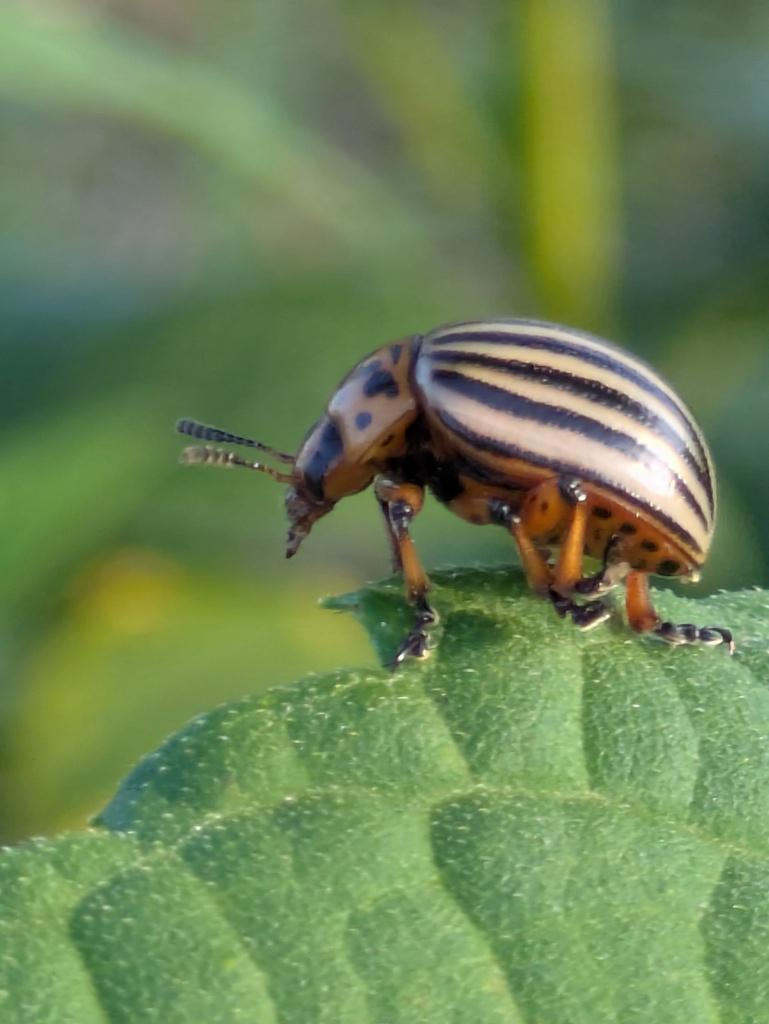potato_beetle: (126, 231, 769, 723)
